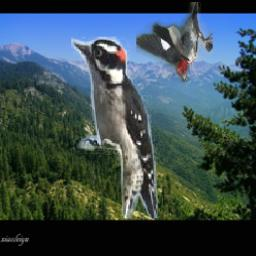Woodpecker: (71, 38, 158, 219), (136, 3, 213, 83)
